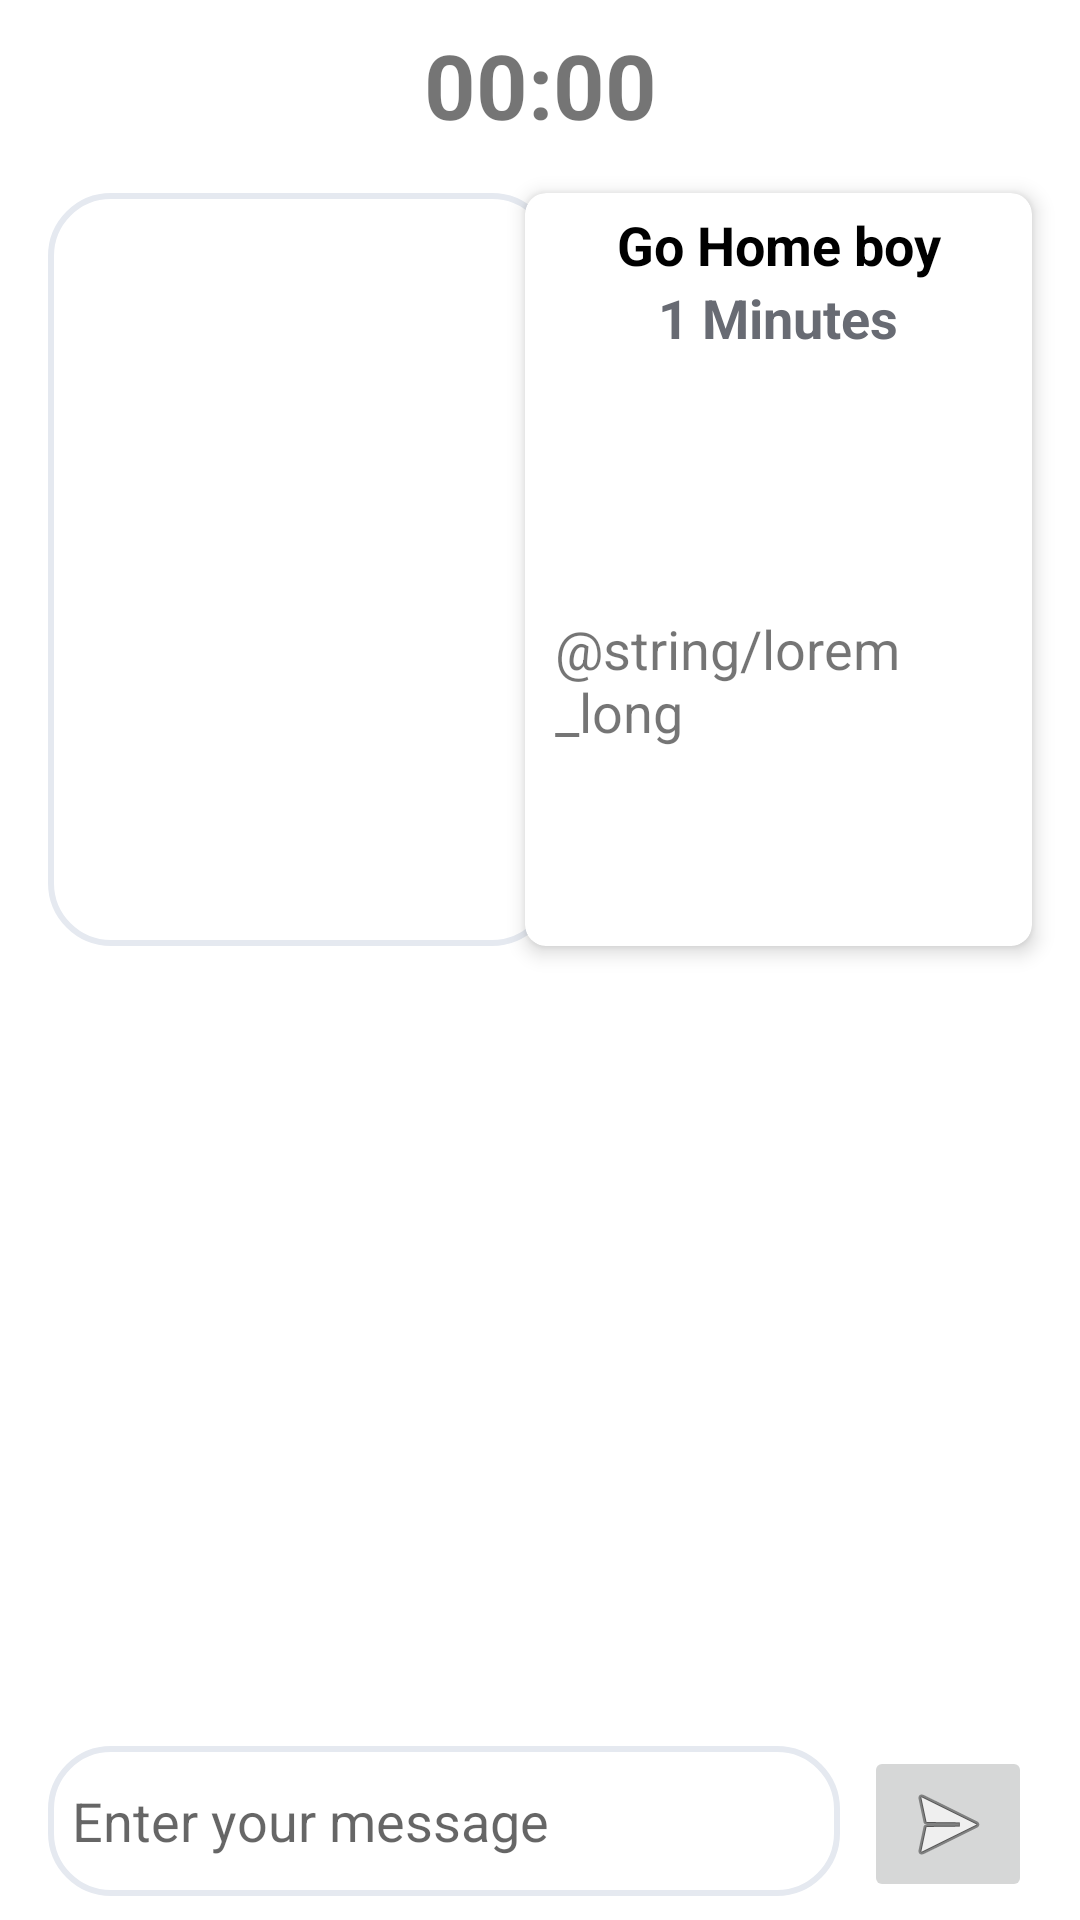

Screen size 1080 x 1920. Icon name, then its center in pixels as (x,y):
send: (948,1824)
